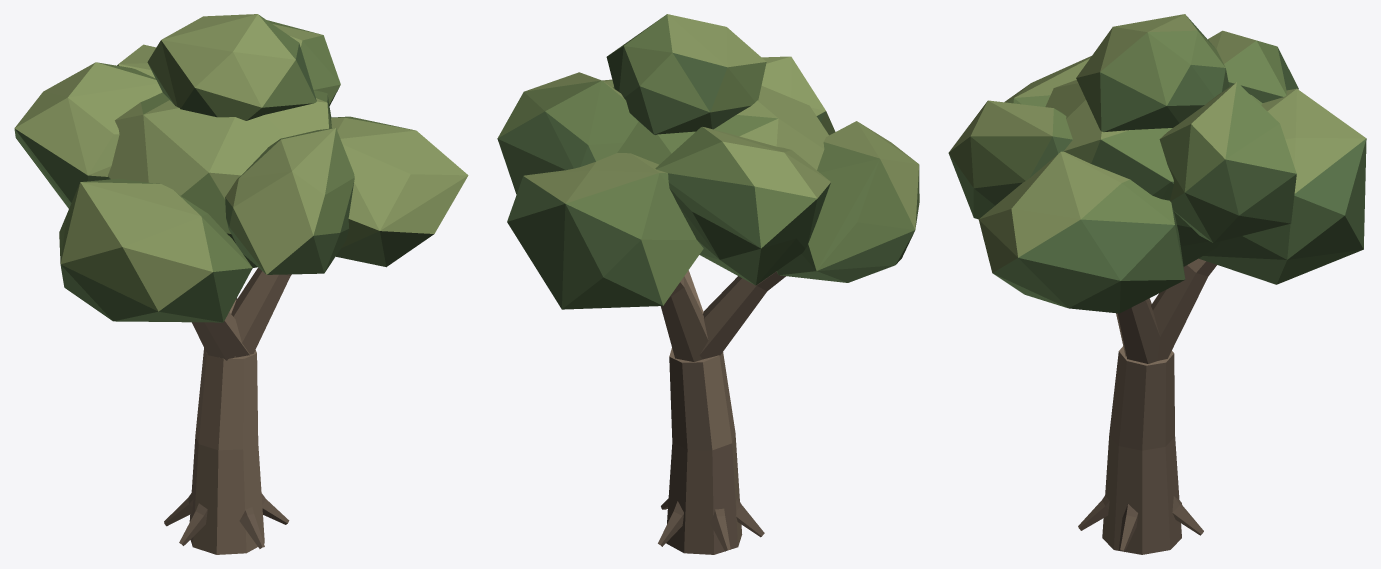
File: tree_temperate_2.glb
3 views of the same model, side by side, from view 1: azimuth 30°, elevation 25°; view 2: azimuth 150°, elevation 25°; view 3: azimuth 270°, elevation 25° (orthographic).
Visible parts, largest first — view 1: Body; view 2: Body; view 3: Body.
Boxes of the visible parts, x1=… form: Body: x1=14, y1=14, x2=468, y2=554; Body: x1=497, y1=14, x2=919, y2=554; Body: x1=948, y1=14, x2=1366, y2=554.
Size of the model in its own units: 4.99 by 6.64 by 4.82.
